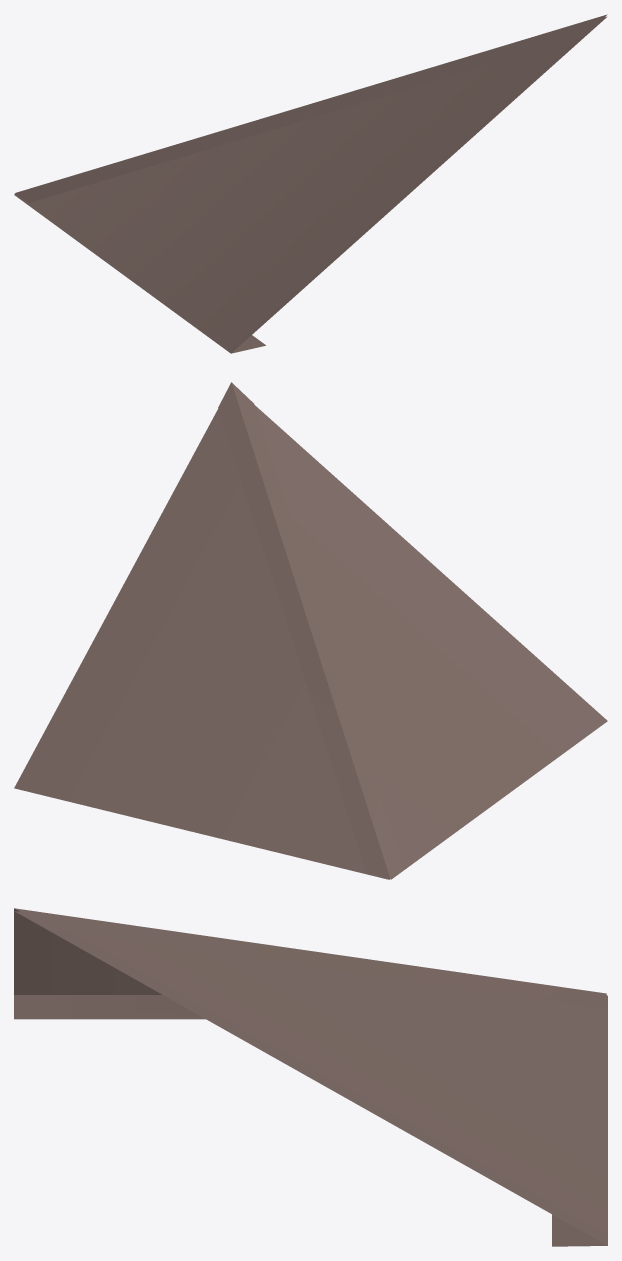
File: Building_Roof_01.fbx
3 views of the same model, one above another, from view 1: azimuth 30°, elevation 25°; view 2: azimuth 150°, elevation 25°; view 3: azimuth 270°, elevation 25° (orthographic). The views are drawn at different scales.
Parts seen in each view (by area): view 1: Building_Roof_01; view 2: Building_Roof_01; view 3: Building_Roof_01.
Boxes of the visible parts, x1,y1,x2,y2 form: Building_Roof_01: [14, 14, 607, 353]; Building_Roof_01: [14, 382, 607, 879]; Building_Roof_01: [14, 908, 607, 1246].
Bounding box in the file's own units: 3.21 × 2.02 × 3.21.
